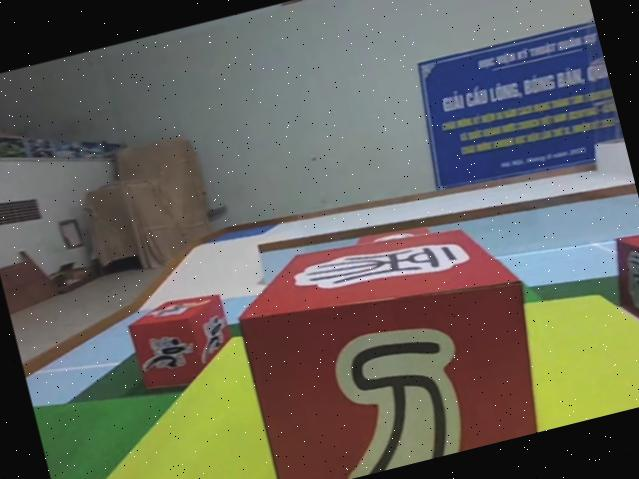R1: (120, 286, 241, 398)
R2 Fake: (220, 200, 560, 479), (602, 227, 639, 353)
